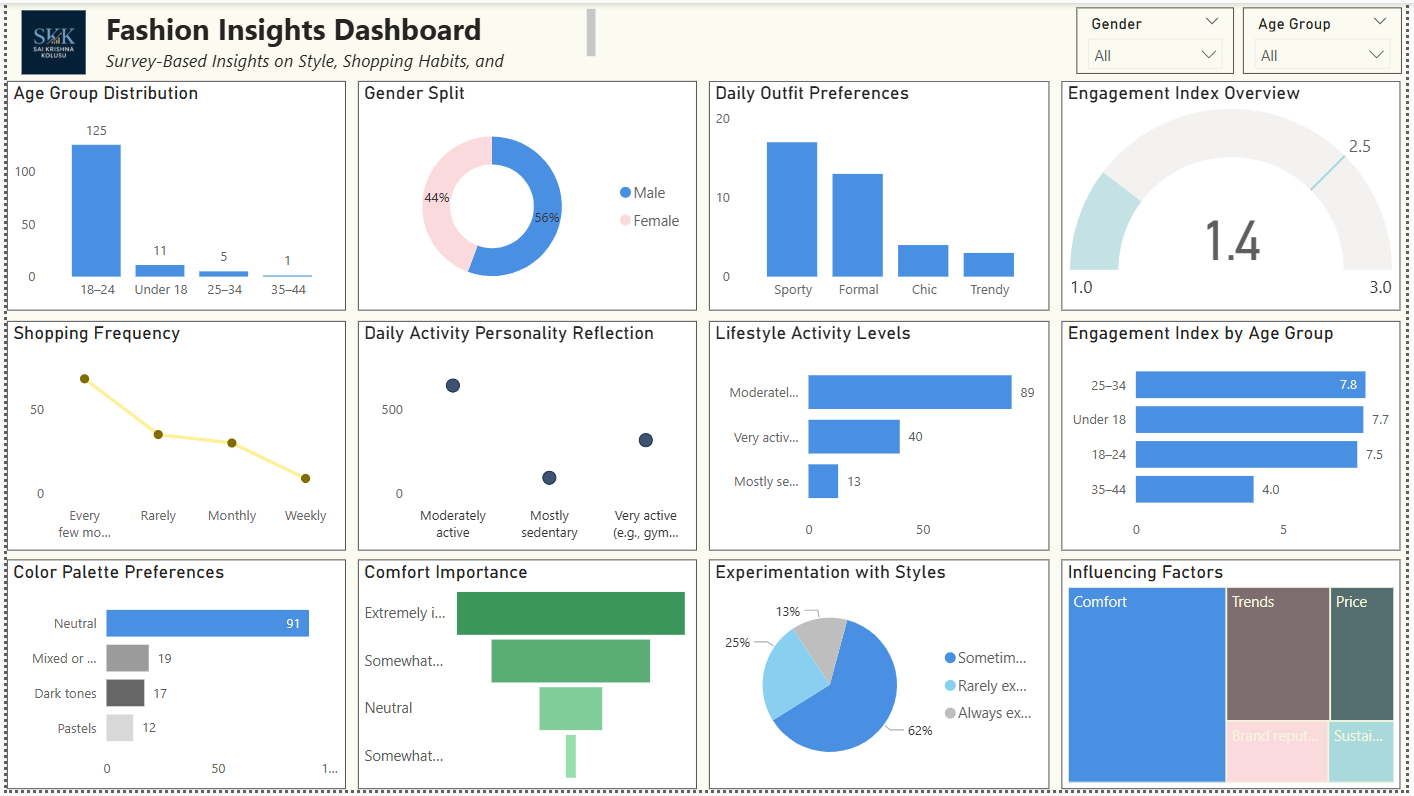

This screenshot's page, from the dashboard's own definition file:
{"tool":"powerbi","page":{"name":"Page 1","canvas":[1280,720],"ordinal":0},"visuals":[{"type":"columnChart","title":"Age Group Distribution","fields":{"Category":["Fashion_Data.  1.Age Group  "],"Y":["CountNonNull(Fashion_Data.Age Group)"]},"box":[0,71,310.1,210],"z":0},{"type":"textbox","box":[85.1,0,458.4,68.6],"z":1000},{"type":"donutChart","title":"Gender Split","fields":{"Category":["Fashion_Data.  2.Gender  "],"Y":["CountNonNull(Fashion_Data.  2.Gender  )"]},"box":[321.3,71,310.1,210],"z":2000},{"type":"columnChart","title":"Daily Outfit Preferences","fields":{"Category":["Fashion_Data.Daily_Outfit"],"Y":["CountNonNull(Fashion_Data.Daily_Outfit)"]},"box":[642.6,71,311,210],"z":3000},{"type":"lineChart","title":"Shopping Frequency","fields":{"Category":["Fashion_Data.Shopping_Frequency"],"Y":["CountNonNull(Fashion_Data.Shopping_Frequency)"]},"box":[0,290.4,310.1,210],"z":4000},{"type":"barChart","title":"Color Palette Preferences","fields":{"Category":["Fashion_Data.Favorite_Color_Palette"],"Y":["CountNonNull(Fashion_Data.Favorite_Color_Palette)"]},"box":[0,509.5,310,210],"z":5000},{"type":"treemap","title":"Influencing Factors","fields":{"Group":["Fashion_Data.  9.What influences your clothing purchases the most?  "],"Values":["CountNonNull(Fashion_Data.  9.What influences your clothing purchases the most?  )"]},"box":[964.8,509.5,310.1,210],"z":6000},{"type":"barChart","title":"Lifestyle Activity Levels","fields":{"Category":["Fashion_Data.14. How active is your daily lifestyle?  "],"Y":["CountNonNull(Fashion_Data.14. How active is your daily lifestyle?  )"]},"box":[642.7,290.4,311,210],"z":7000},{"type":"pieChart","title":"Experimentation with Styles","fields":{"Category":["Fashion_Data.  12.Do you often experiment with new styles or stick to what you know?  "],"Y":["CountNonNull(Fashion_Data.  12.Do you often experiment with new styles or stick to what you know?  )"]},"box":[642.6,509.5,311,210],"z":8000},{"type":"barChart","title":"Engagement Index by Age Group","fields":{"Y":["MeasureTable.AvgStyleReflection"],"Category":["Fashion_Data.Age Group"]},"box":[964.9,290.4,310,210],"z":9000},{"type":"image","box":[0,1.6,85.1,69.3],"z":10000},{"type":"funnel","title":"Comfort Importance","fields":{"Category":["Fashion_Data.Comfort_Importance"],"Y":["CountNonNull(Fashion_Data.Comfort_Importance)"]},"box":[321.3,509.5,310,210],"z":11000},{"type":"scatterChart","title":"Daily Activity Personality Reflection","fields":{"X":["Fashion_Data.Daily_Activity_Level"],"Y":["Sum(Fashion_Data.Personality_Reflection_Scale)"]},"box":[321.3,290.4,310.1,210],"z":12000},{"type":"gauge","title":"Engagement Index Overview","fields":{"Y":["MeasureTable.Engagement_Index"]},"box":[964.8,71,310.1,210],"z":13000},{"type":"slicer","fields":{"Values":["Fashion_Data.Age Group"]},"box":[1130.1,4.1,145,60.8],"z":14000},{"type":"slicer","fields":{"Values":["Fashion_Data.Gender"]},"box":[978.2,4.1,143.8,60.8],"z":15000}]}

Visuals, with their boxes in screenshot pixels (x1, y1, x2, y2), scaled from the page's 1280x720 canvas onto the 1414x796 screenshot:
"Age Group Distribution" columnChart: (left=0, top=78, right=343, bottom=311)
textbox: (left=94, top=0, right=600, bottom=76)
"Gender Split" donutChart: (left=355, top=78, right=697, bottom=311)
"Daily Outfit Preferences" columnChart: (left=710, top=78, right=1053, bottom=311)
"Shopping Frequency" lineChart: (left=0, top=321, right=343, bottom=553)
"Color Palette Preferences" barChart: (left=0, top=563, right=342, bottom=795)
"Influencing Factors" treemap: (left=1066, top=563, right=1408, bottom=795)
"Lifestyle Activity Levels" barChart: (left=710, top=321, right=1054, bottom=553)
"Experimentation with Styles" pieChart: (left=710, top=563, right=1053, bottom=795)
"Engagement Index by Age Group" barChart: (left=1066, top=321, right=1408, bottom=553)
image: (left=0, top=2, right=94, bottom=78)
"Comfort Importance" funnel: (left=355, top=563, right=697, bottom=795)
"Daily Activity Personality Reflection" scatterChart: (left=355, top=321, right=697, bottom=553)
"Engagement Index Overview" gauge: (left=1066, top=78, right=1408, bottom=311)
slicer - Fashion_Data.Age Group: (left=1248, top=5, right=1409, bottom=72)
slicer - Fashion_Data.Gender: (left=1081, top=5, right=1239, bottom=72)
